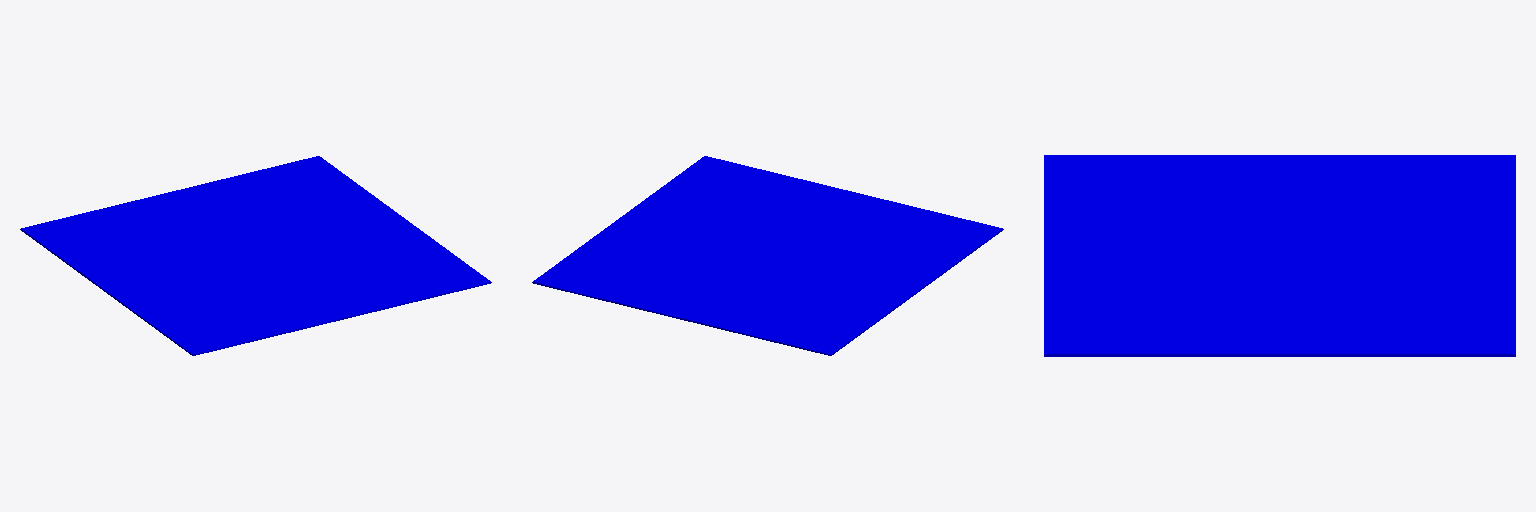
The robot description file, URDF, robot "goal_mark":
<?xml version="0.0" ?>
<robot name="goal_mark">
  <link name="goal_mark">
    <contact>
      <lateral_friction value="0.7"/>
      <rolling_friction value="0.0"/>
      <contact_cfm value="0.0"/>
      <contact_erp value="0.1"/>
    </contact>
    <inertial>
      <origin rpy="0 0 0" xyz="0 0 0"/>
       <mass value=".0"/>
       <inertia ixx=".01" ixy="0" ixz="0" iyy=".01" iyz="0" izz=".01"/>
    </inertial>
    <visual>
      <origin rpy="0 0 0" xyz="0.0 0.0 0.0"/>
      <geometry>
        <!-- <cylinder radius="0.1" length="0.001"/> -->
        <box size="0.2 0.2 0.001"/>
      </geometry>
      <material name="desert sand">
        <color rgba="0 0 1 0.8" />
      </material>
    </visual>
    <collision>
      <origin rpy="0 0 0" xyz="0.0 0.0 0.0"/>
      <geometry>
        <!-- <cylinder radius="0.1" length="0.001"/> -->
        <box size="0.2 0.2 0.001"/>
      </geometry>
    </collision>
  </link>


</robot>

--- What the picture shows (computed from the rendered views, not written in the file) ---
Views: 3 orthographic renders of the robot side by side, from view 1: azimuth 30°, elevation 25°; view 2: azimuth 150°, elevation 25°; view 3: azimuth 270°, elevation 25°.
Robot: goal_mark — 1 links, 0 joints (none); root link goal_mark; default pose: every joint at zero.
Links seen in each view (by area): view 1: goal_mark; view 2: goal_mark; view 3: goal_mark.
Link boxes in pixels (x1=…): goal_mark: x1=20, y1=156, x2=491, y2=355; goal_mark: x1=532, y1=156, x2=1003, y2=355; goal_mark: x1=1044, y1=155, x2=1515, y2=356.
Size in the robot's own frame: 0.2 by 0.2 by 0.001 metres.
Geometry: primitives only (box / cylinder / sphere), no mesh files.
